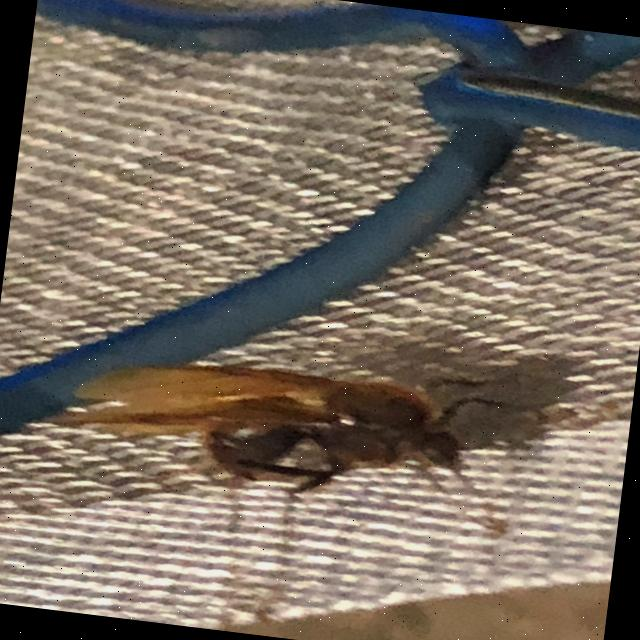Alive-Male-Alate: (16, 313, 553, 640)
